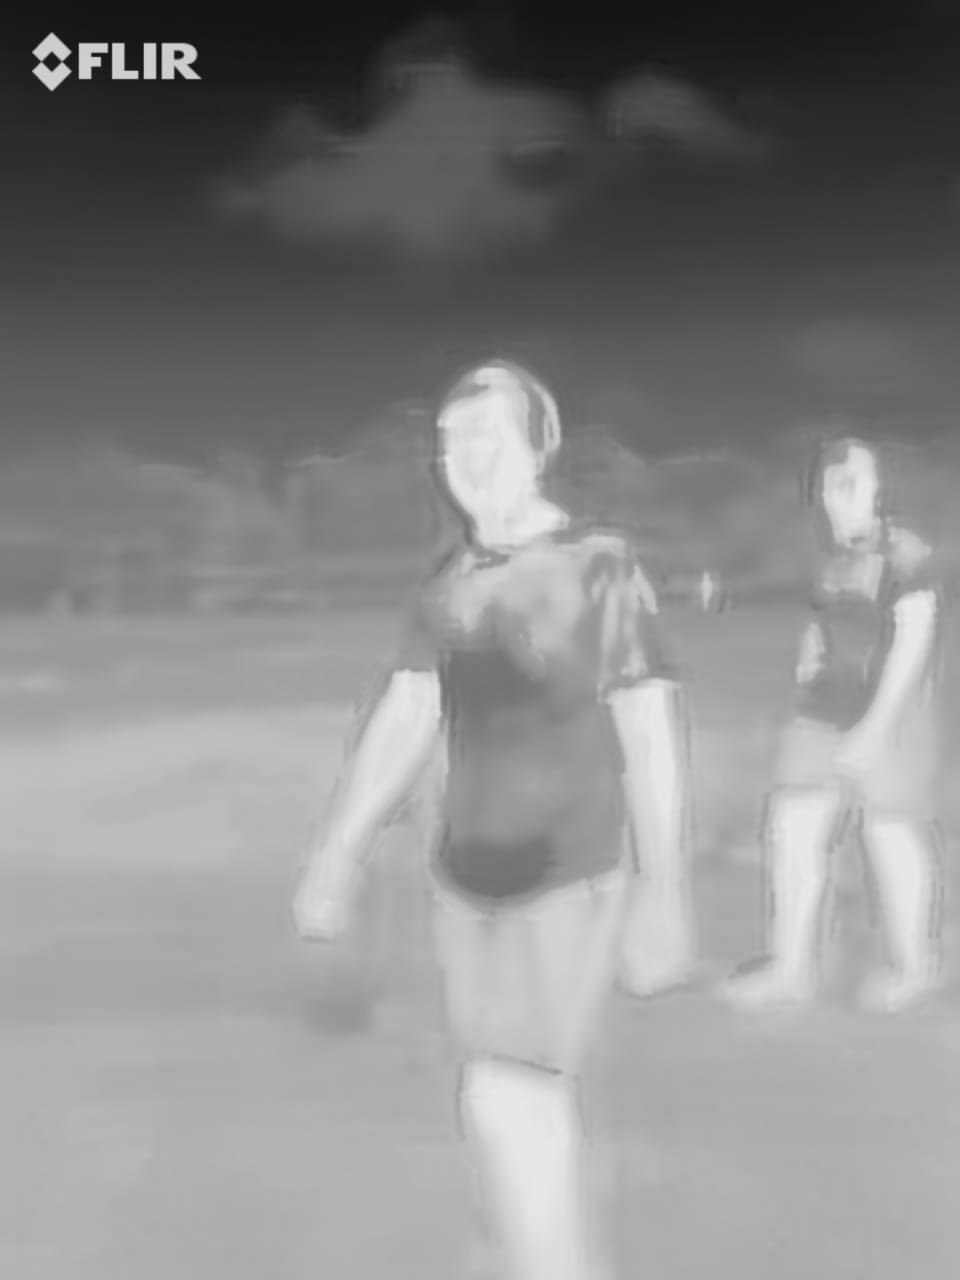head: (424, 356, 549, 526)
